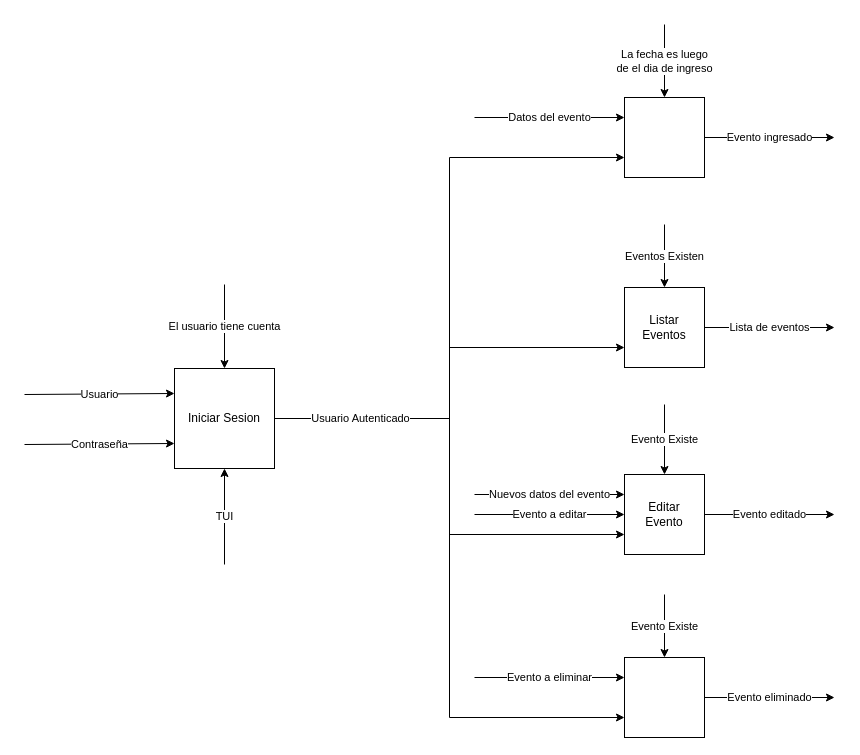
Some shapes in this 860 by 755 pixel diagram are drawn without their labels. Here are the shapes that lost their labels. From the top down, the centre of each, then its label:
the point at 664,137: Agregar Evento
the point at 664,697: Eliminar Evento
